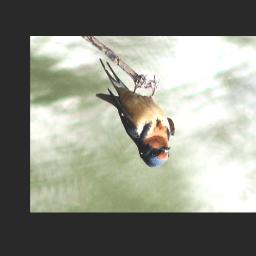Swallow: (98, 57, 177, 169)
